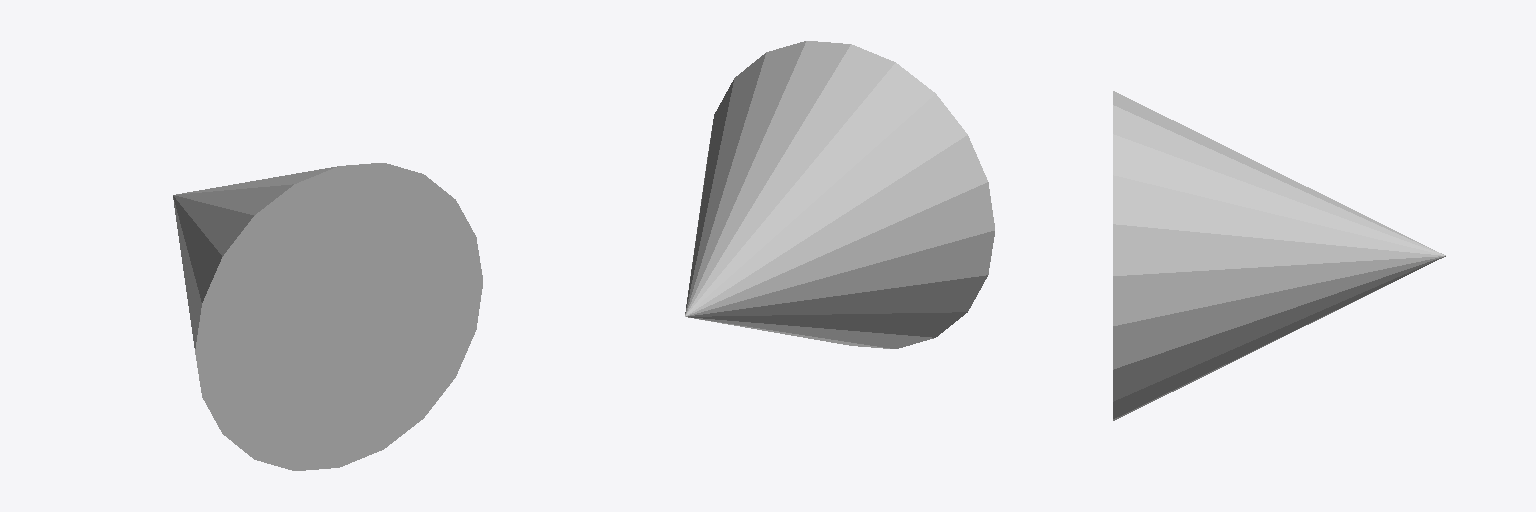
File: cone_hilman.obj
The picture shows the model from 3 angles: view 1: azimuth 30°, elevation 25°; view 2: azimuth 150°, elevation 25°; view 3: azimuth 270°, elevation 25°; orthographic projection.
Visible parts, largest first — view 1: cone_Mesh; view 2: cone_Mesh; view 3: cone_Mesh.
Boxes of the visible parts, box(x1,y1,x2,y2) form: cone_Mesh: box(173, 163, 482, 470); cone_Mesh: box(685, 41, 994, 348); cone_Mesh: box(1113, 91, 1445, 420).
Bounding box in the file's own units: 1 × 1 × 1.